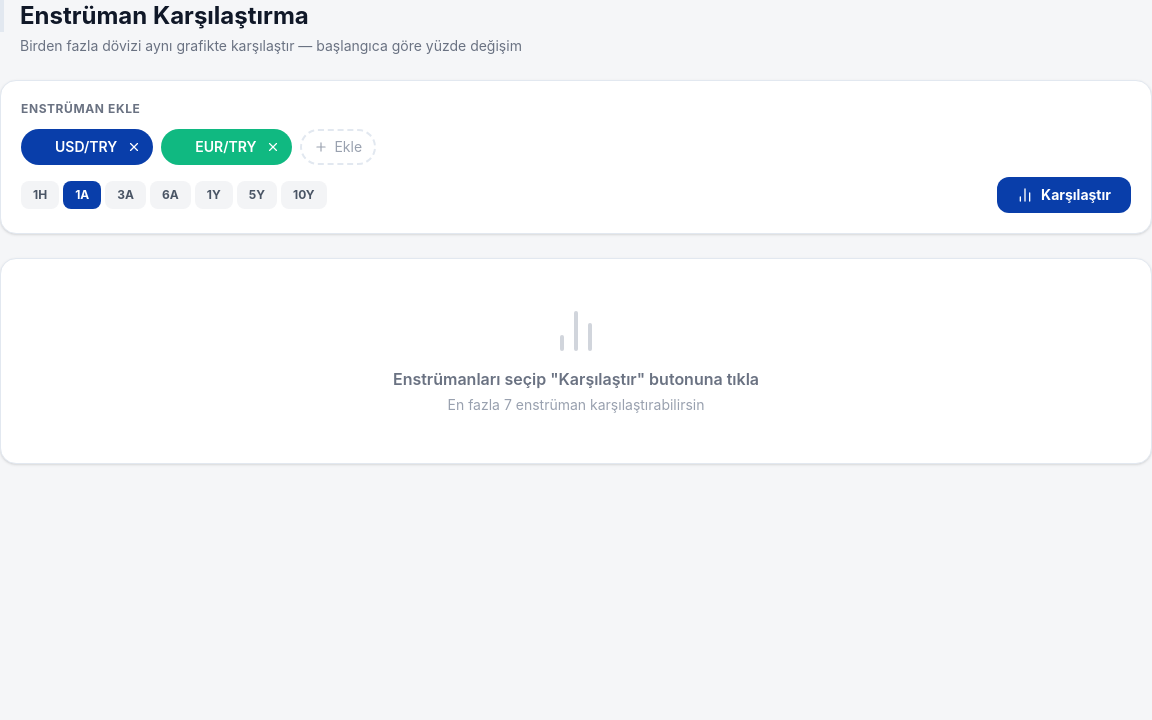
Test case: ComparePage (FX enstrüman karşılaştırma) — jsdom + testing-library › yüklenince ECharts grafik konteyneri (dinamik import) hata fırlatmadan kurulur
Click the button "Karşılaştır": click(1064, 195) [997,177,1131,213]
(page scrolled)
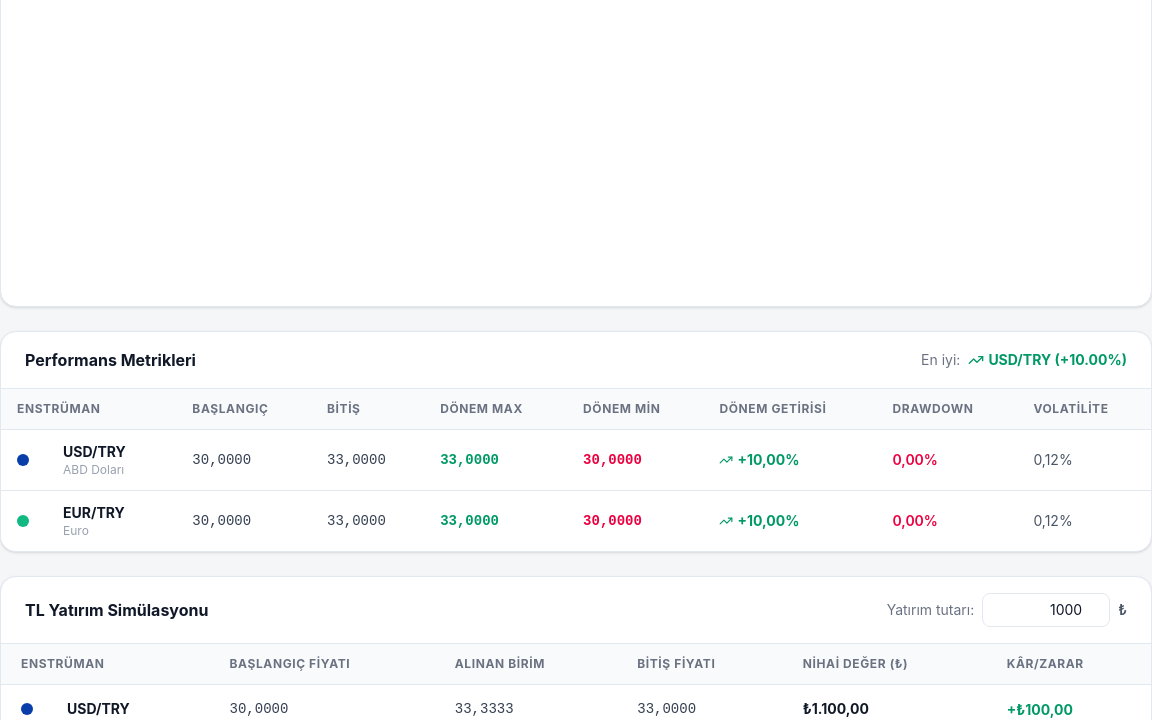
Now the heading "Performans Metrikleri" is shown, box [25,348,196,372]
